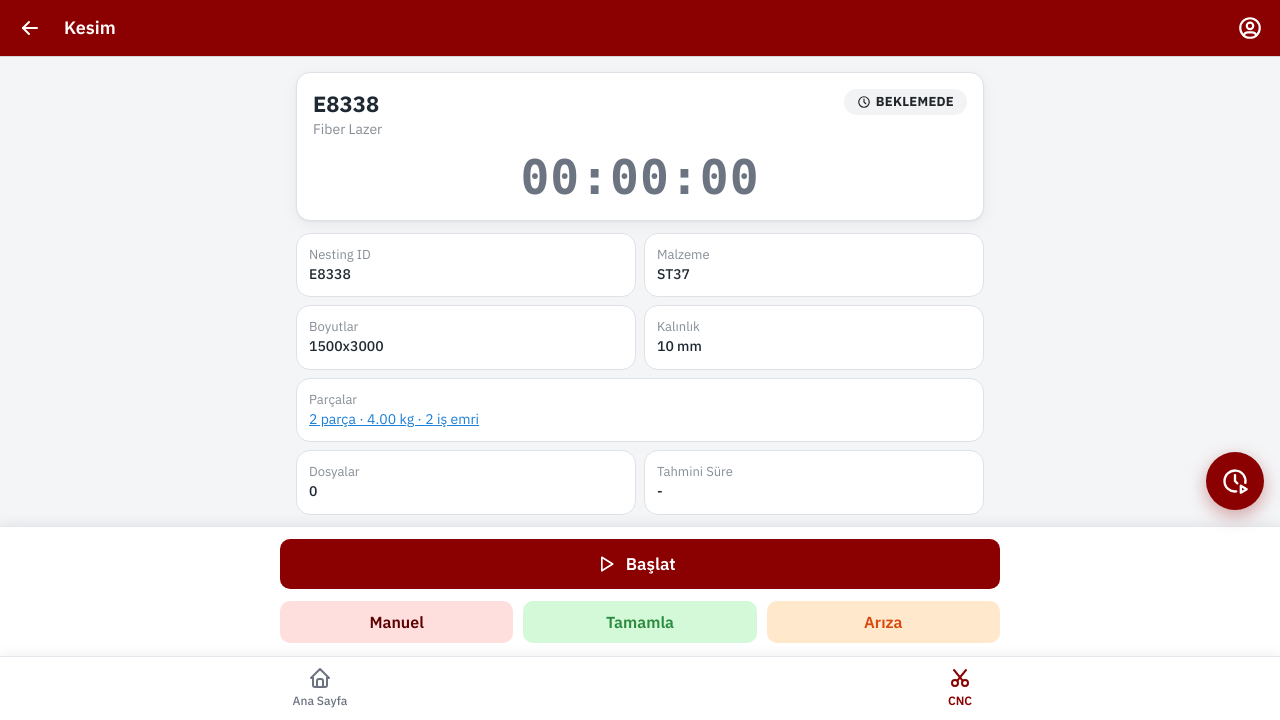
Test: cnc task › starts and stops a cut on server time
Expected: the heading "E8338" is shown, [313,89,382,119]
Expected: the text "2 parça · 4.00 kg · 2 iş emri" is shown, [309,410,479,428]
Click the button "Başlat" at (640, 564), box [280,539,1000,589]
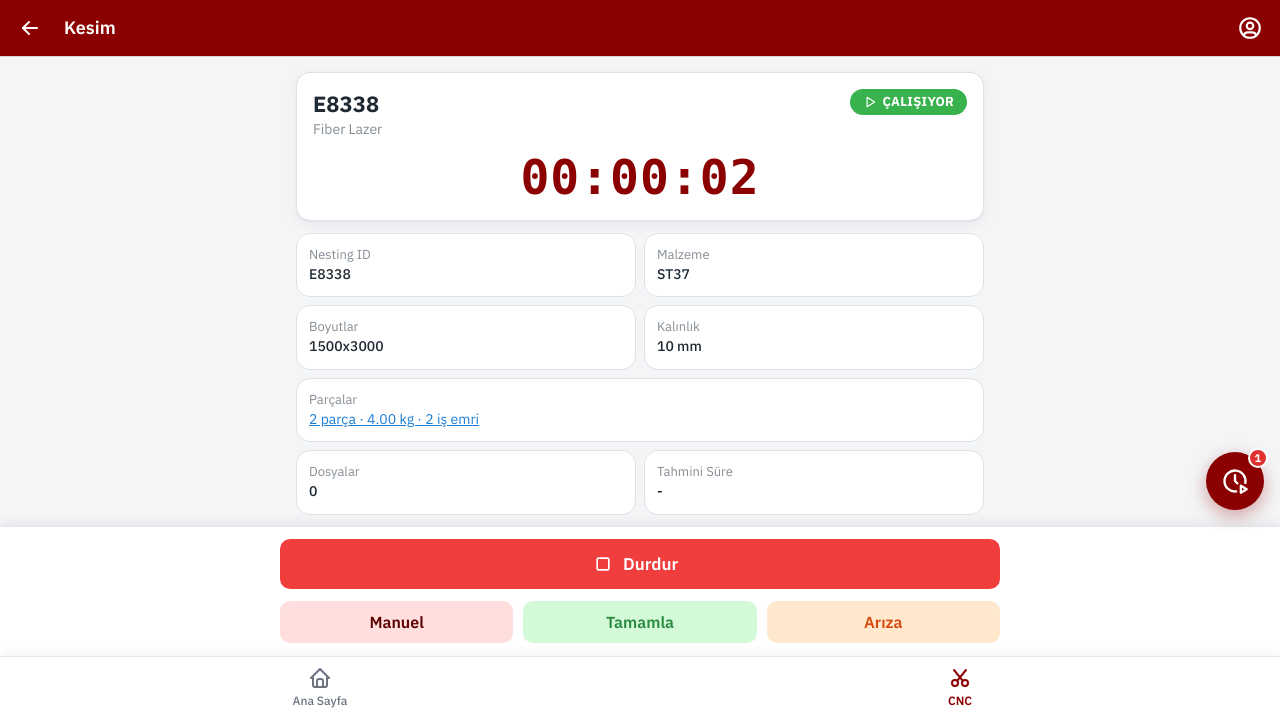
Result: the text "Çalışıyor" is shown at [882,90,954,114]
Click the button "Durdur" at (640, 564), box [280,539,1000,589]
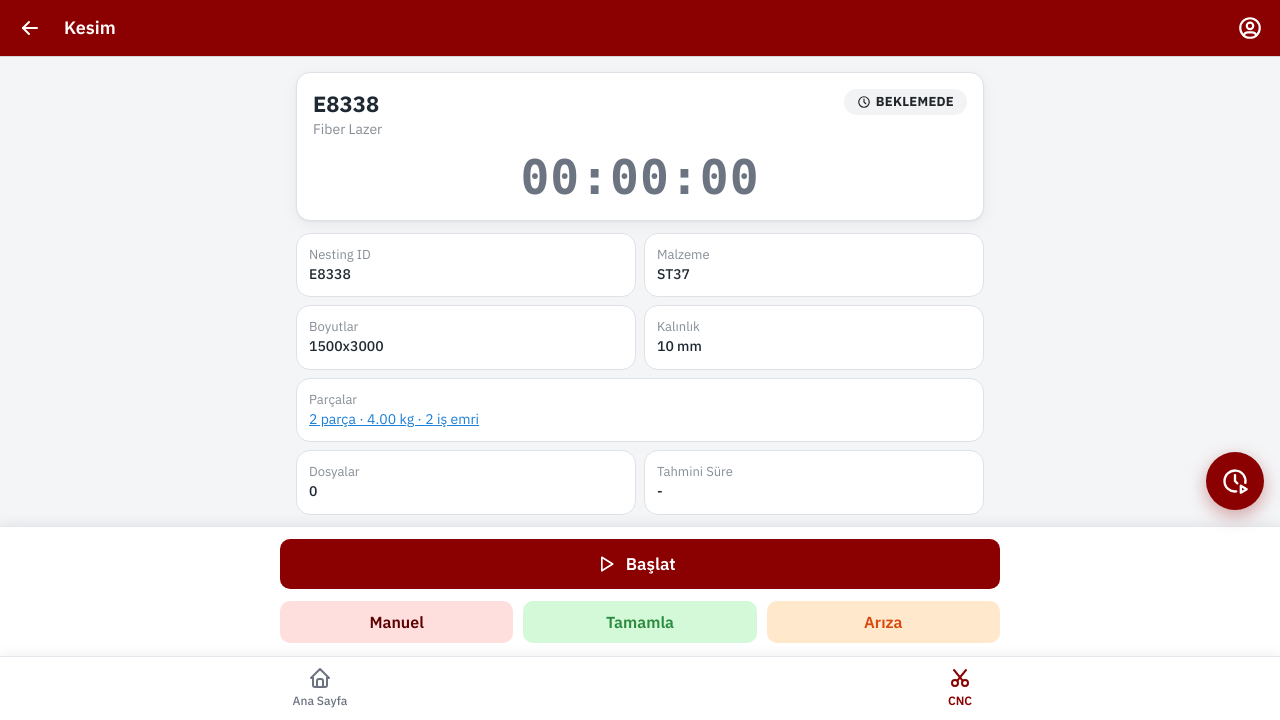
Result: the text "Beklemede" is shown at [876,90,954,114]
